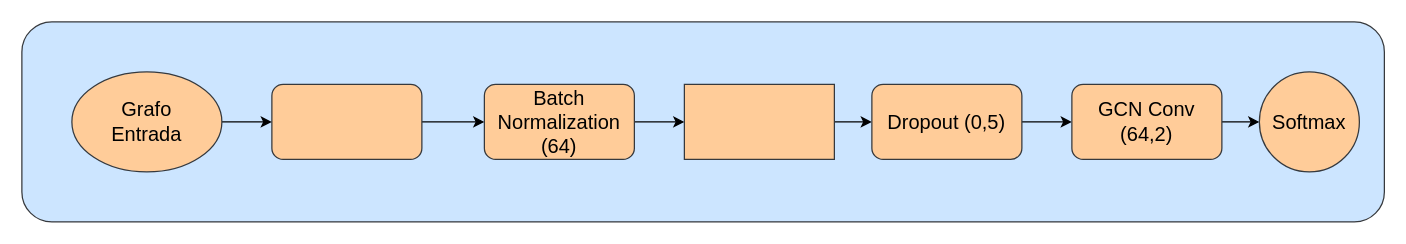
Some shapes in this 1406 by 244 pixel diagram are drawn without their labels. Here are the shapes that lost their labels. From the top down, the centre of each, then its label:
At pixel 346 121: "GCN Conv (100, 64)".
At pixel 758 121: "ReLu".
